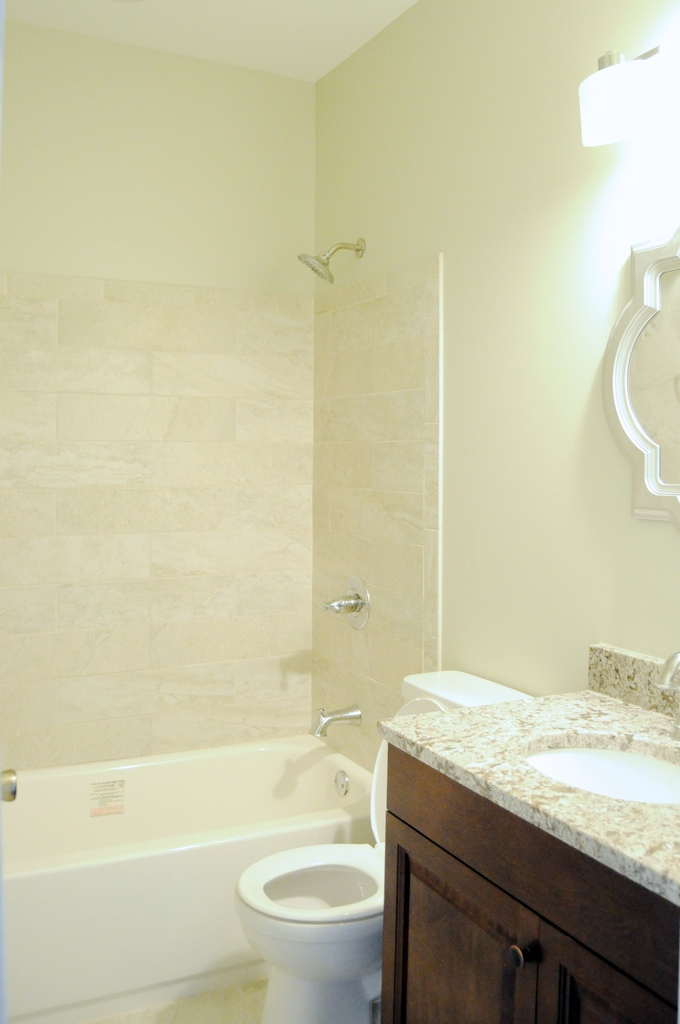tap: (310, 704, 366, 736)
